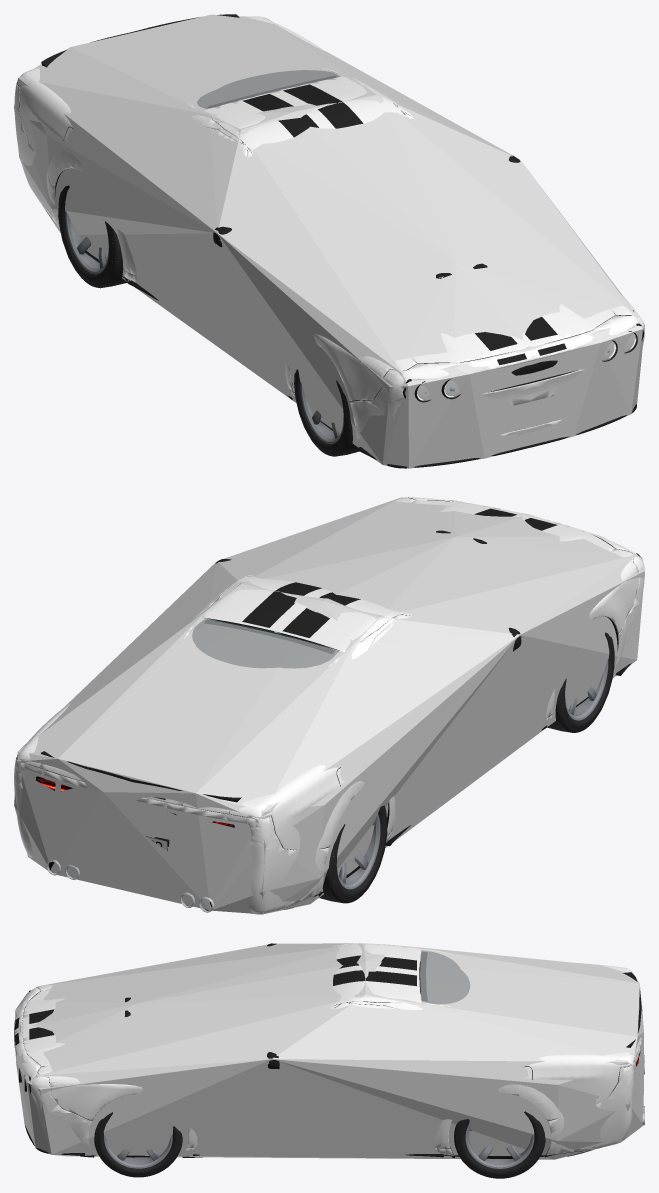
File: arden_havoc_lod0.glb
3 renders of one model, top to bottom at view 1: azimuth 30°, elevation 25°; view 2: azimuth 150°, elevation 25°; view 3: azimuth 270°, elevation 25°, orthographic. The views are drawn at different scales.
Parts seen in each view (by area): view 1: col_body, body, trim, wheel_RR, glass, wheel_FR, lights_front; view 2: col_body, body, glass, trim, wheel_RR, wheel_FR; view 3: col_body, body, trim, wheel_RL, wheel_FL, glass.
Part boxes in pixels (x1,y1,x2,y2): col_body: (14,14,644,468); body: (14,16,644,438); trim: (17,14,644,468); wheel_RR: (58,185,127,288); glass: (197,70,339,108); wheel_FR: (294,369,359,456); lights_front: (219,240,636,400); col_body: (14,497,644,914); body: (14,497,644,914); glass: (192,619,338,668); trim: (16,497,641,910); wheel_RR: (319,805,387,903); wheel_FR: (547,632,614,732); col_body: (15,943,643,1159); body: (14,943,642,1154); trim: (14,943,641,1157); wheel_RL: (454,1111,545,1178); wheel_FL: (94,1112,182,1177); glass: (420,950,469,1003).
Size of the model in its own units: 2.11 by 1.38 by 4.87.
13 materials, 2 textured.
